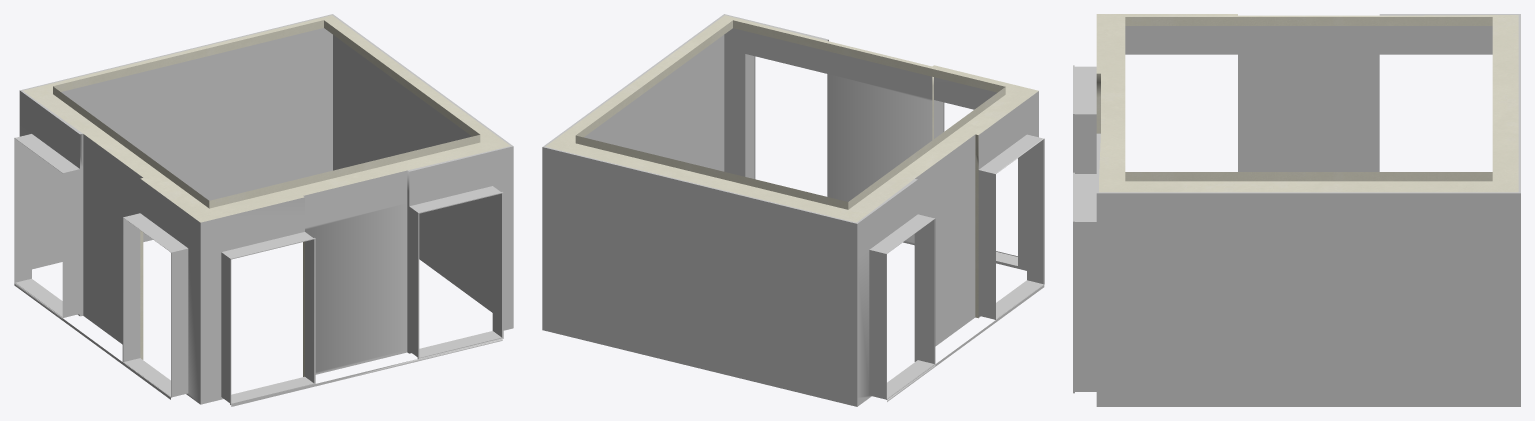
File: Walls.fbx
3 renders of one model, left to right at view 1: azimuth 30°, elevation 25°; view 2: azimuth 150°, elevation 25°; view 3: azimuth 270°, elevation 25°, orthographic. The views are drawn at different scales.
Visible parts, largest first — view 1: Inside Walls; view 2: Inside Walls; view 3: Inside Walls.
Part boxes in pixels (bbox=[...]): Inside Walls: bbox=[14, 14, 513, 406]; Inside Walls: bbox=[542, 14, 1044, 406]; Inside Walls: bbox=[1073, 14, 1520, 406].
Size of the model in its own units: 1348 by 740 by 1348.
2 materials, 1 textured.
